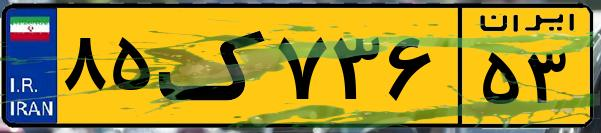3: (330, 28, 385, 110), (525, 38, 570, 115)
5: (475, 38, 525, 113), (110, 28, 158, 98)
6: (385, 28, 445, 110)
7: (270, 28, 330, 110)
8: (57, 26, 110, 100)
ک: (158, 12, 270, 120)
